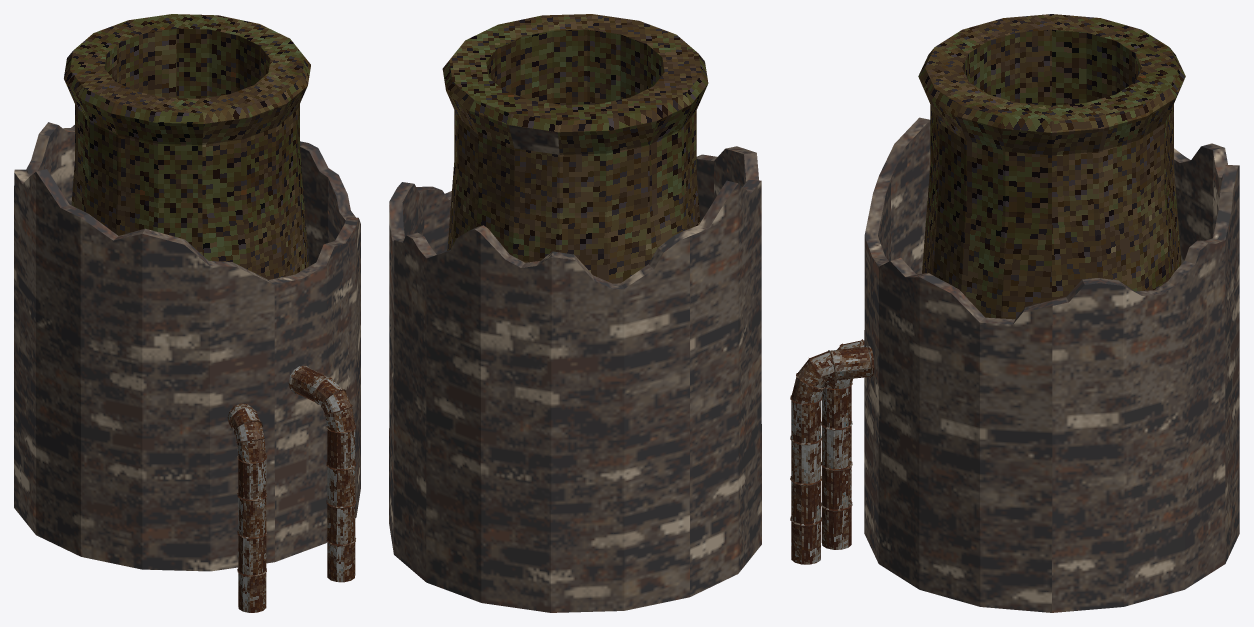
Rendered from building_2.fbx.
3 views of the same model, side by side, from view 1: azimuth 30°, elevation 25°; view 2: azimuth 150°, elevation 25°; view 3: azimuth 270°, elevation 25° (orthographic). The views are drawn at different scales.
Parts seen in each view (by area): view 1: Cylinder.015, pipe.004, pipe.001; view 2: Cylinder.015; view 3: Cylinder.015, pipe.004, pipe.001.
Part boxes in pixels (box(x1,y1,x2,y2)): Cylinder.015: box(14, 14, 360, 571); pipe.004: box(288, 365, 356, 582); pipe.001: box(227, 403, 266, 612); Cylinder.015: box(389, 14, 761, 612); Cylinder.015: box(864, 14, 1239, 612); pipe.004: box(790, 346, 874, 564); pipe.001: box(821, 339, 864, 549).
Size of the model in its own units: 1724 by 2507 by 2064.
3 materials, 3 textured.
